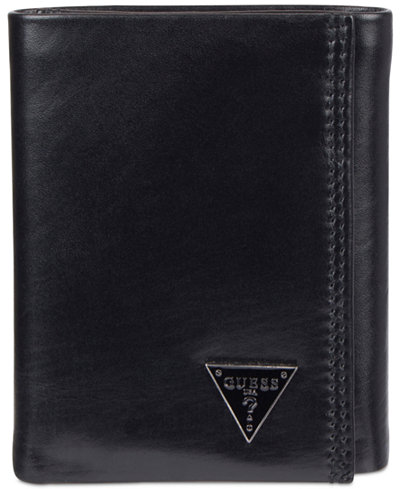monedero: (6, 2, 395, 487)
